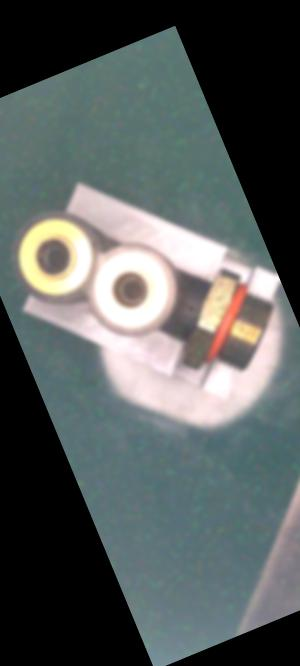craze: (179, 296, 200, 319)
